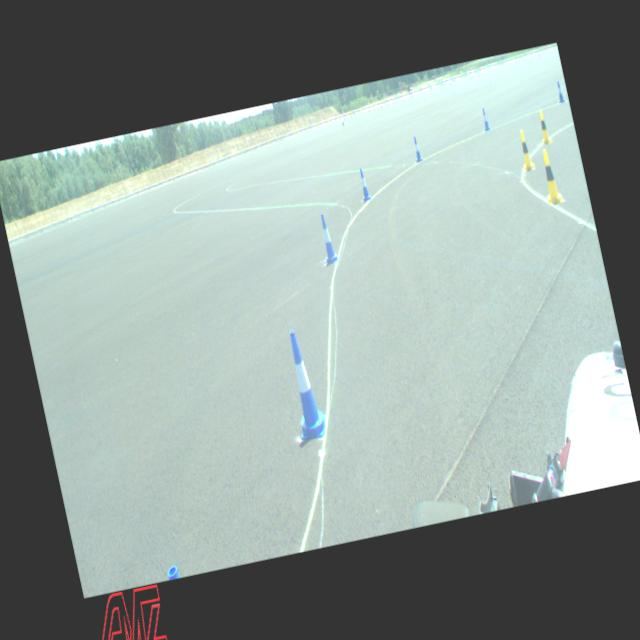blue_cone: (278, 326, 330, 442), (316, 211, 340, 266), (356, 167, 372, 202), (554, 80, 566, 104), (411, 135, 422, 160), (480, 106, 490, 130), (166, 564, 179, 579)
yellow_cone: (536, 148, 562, 204), (516, 128, 534, 170), (534, 108, 552, 144)
